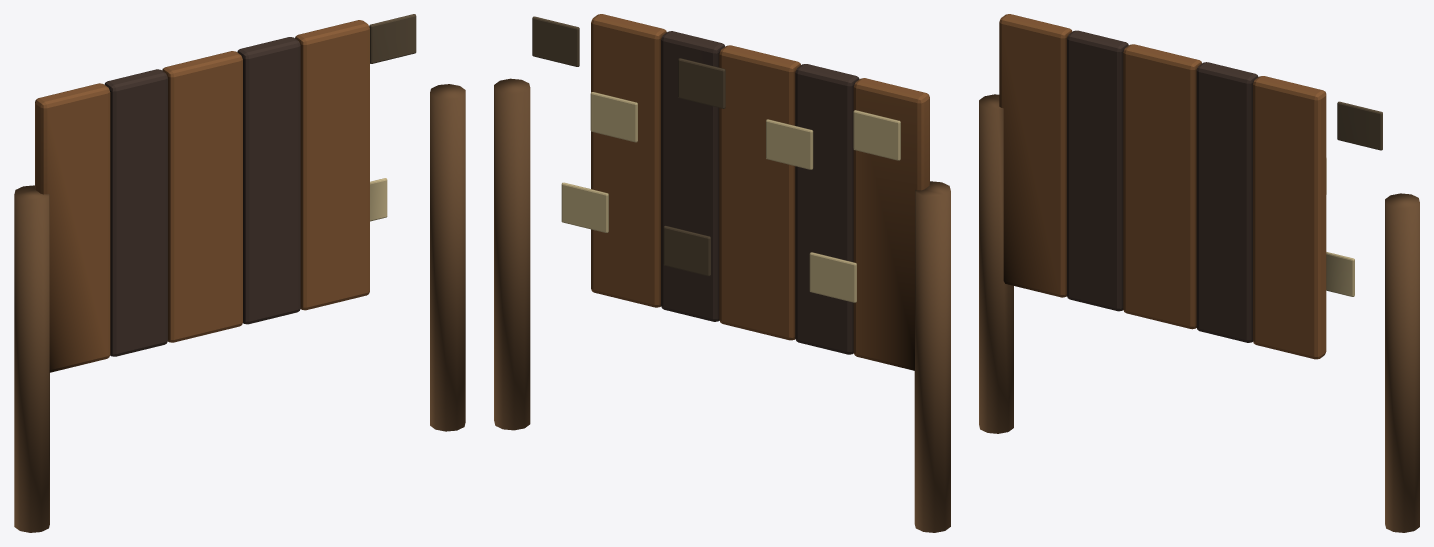
The model's file is prop_quest_board.glb.
3 renders of one model, left to right at view 1: azimuth 30°, elevation 25°; view 2: azimuth 150°, elevation 25°; view 3: azimuth 330°, elevation 25°, orthographic. The views are drawn at different scales.
Parts seen in each view (by area): view 1: prop_quest_board; view 2: prop_quest_board; view 3: prop_quest_board.
Part boxes in pixels (bbox=[...]): prop_quest_board: bbox=[14, 14, 465, 532]; prop_quest_board: bbox=[494, 14, 950, 532]; prop_quest_board: bbox=[979, 14, 1419, 532].
Bounding box in the file's own units: 1.54 × 1.4 × 0.11.
